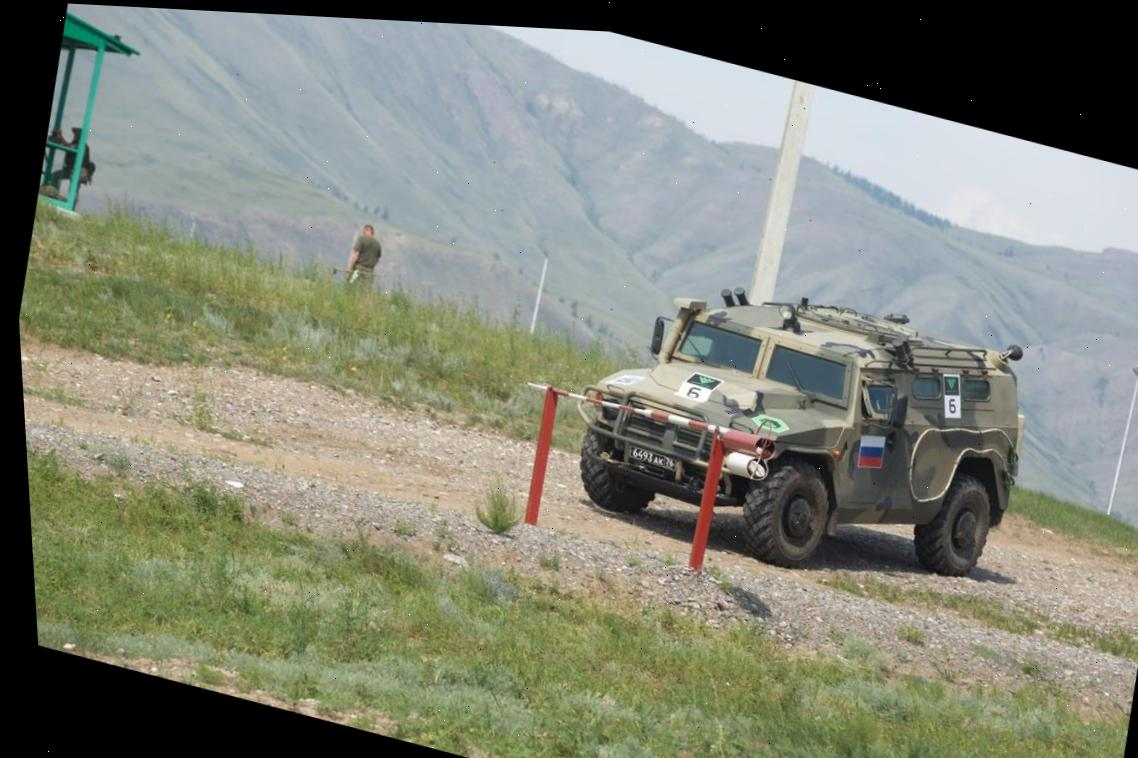armored_car: (544, 233, 1057, 628)
person: (39, 120, 105, 215), (339, 220, 388, 294)
